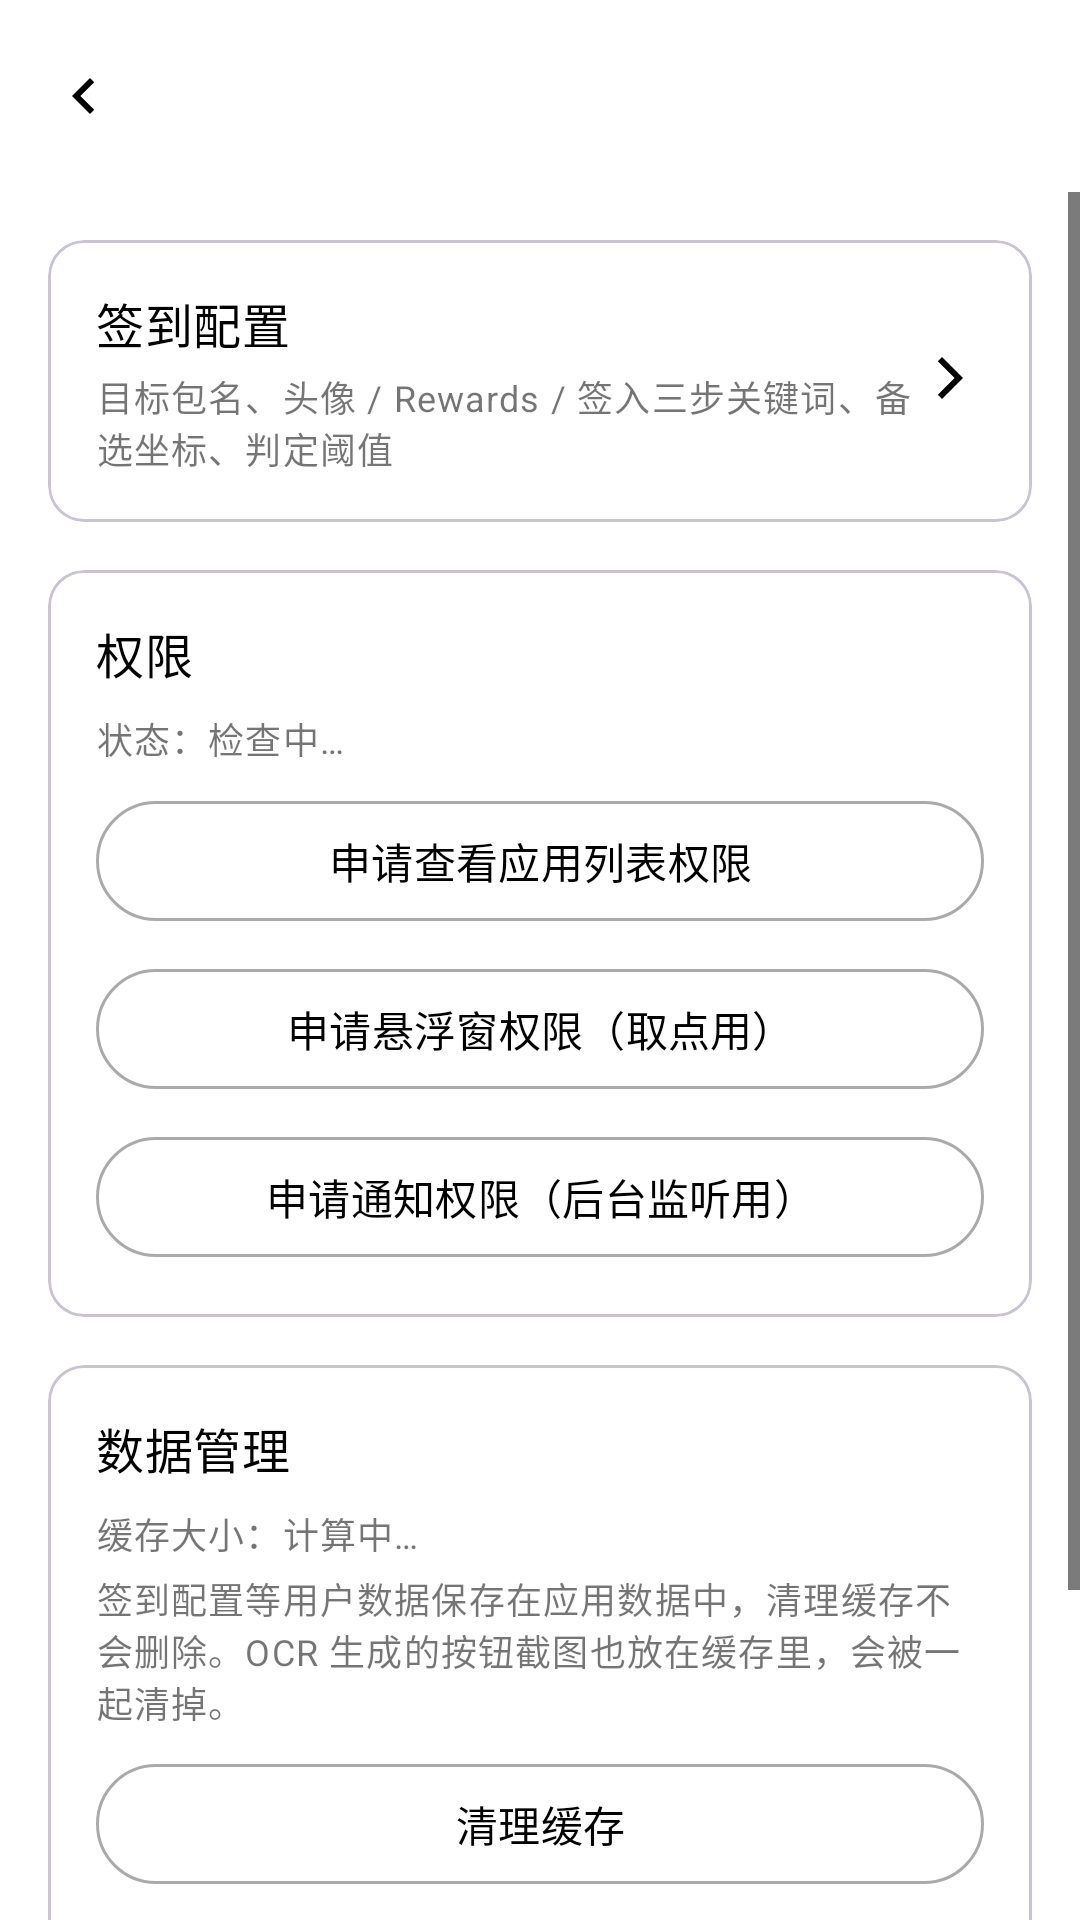

Icon bounding boxes for this 1080×1920 phone screenshot, format (x1=x1, y1=y1, x2=x2, y2=y2):
进入: (x1=938, y1=357, x2=963, y2=399)
